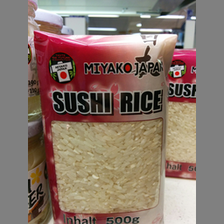rice: (33, 29, 177, 223)
